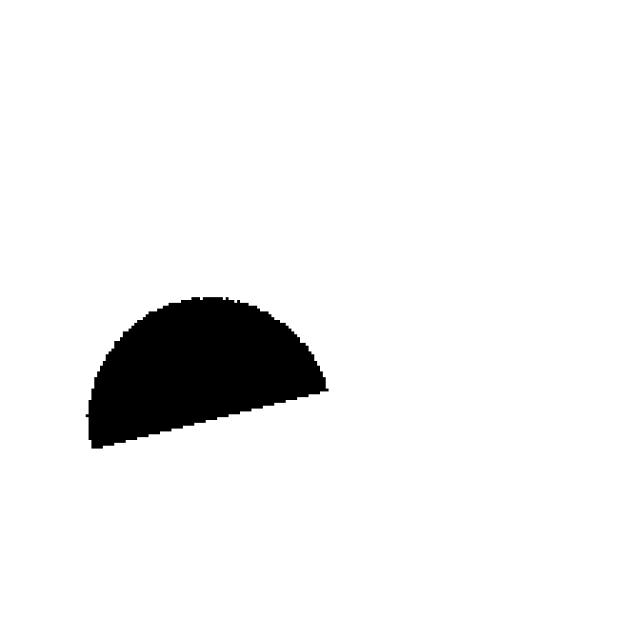Semicircle: (56, 270, 396, 491)
